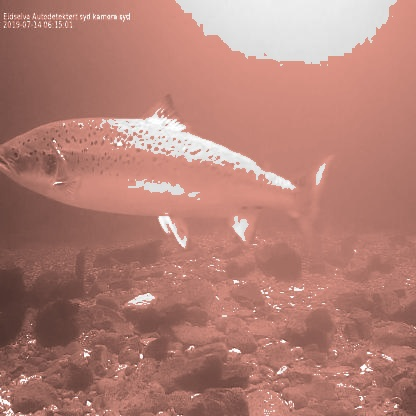salmon: (0, 90, 338, 252)
